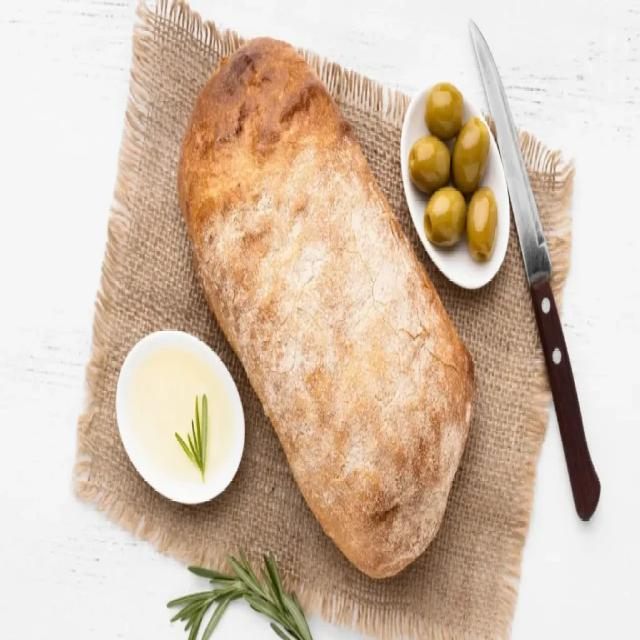Ciabatta: (179, 38, 474, 578)
